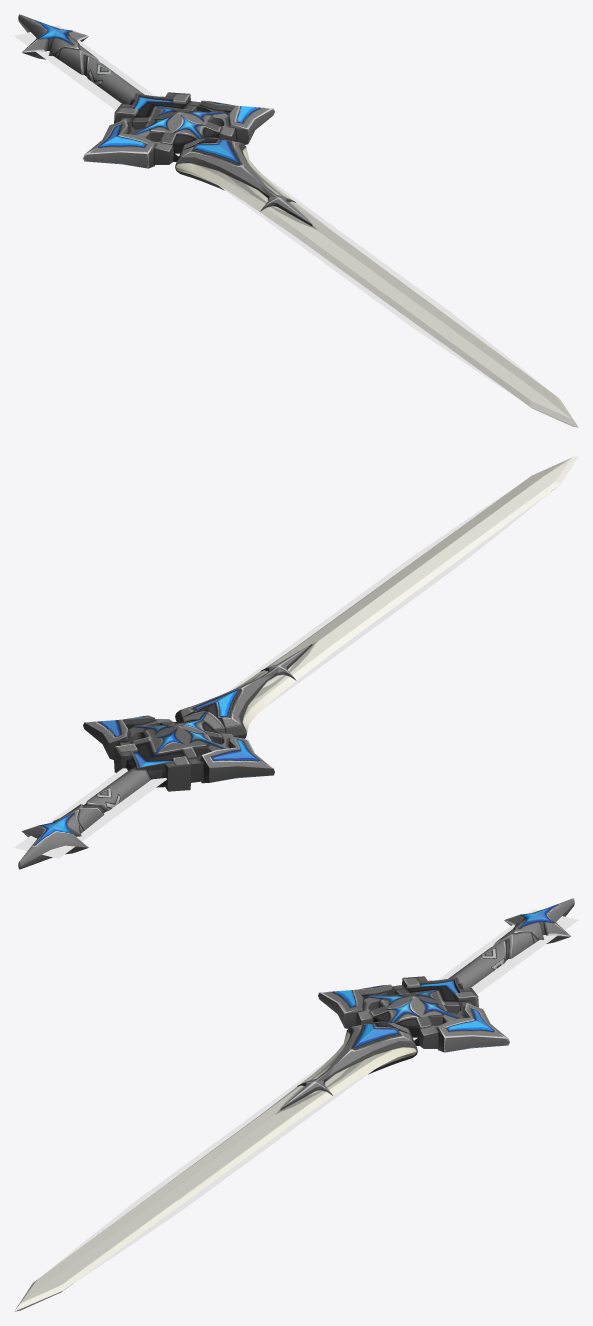
File: Equip_Sword_Psalmus.fbx
3 renders of one model, top to bottom at view 1: azimuth 30°, elevation 25°; view 2: azimuth 150°, elevation 25°; view 3: azimuth 330°, elevation 25°, orthographic.
Parts seen in each view (by area): view 1: Equip_Sword_Psalmus_Model, Equip_Sword_EffectMesh; view 2: Equip_Sword_Psalmus_Model, Equip_Sword_EffectMesh; view 3: Equip_Sword_Psalmus_Model, Equip_Sword_EffectMesh.
Part boxes in pixels (<box>): Equip_Sword_Psalmus_Model: <box>18,14,578,427</box>; Equip_Sword_EffectMesh: <box>14,25,547,398</box>; Equip_Sword_Psalmus_Model: <box>18,456,578,869</box>; Equip_Sword_EffectMesh: <box>14,487,550,858</box>; Equip_Sword_Psalmus_Model: <box>14,898,574,1311</box>; Equip_Sword_EffectMesh: <box>45,909,578,1283</box>.
Size of the model in its own units: 0.2171 by 0.0486 by 1.1.
2 materials, 1 textured.
